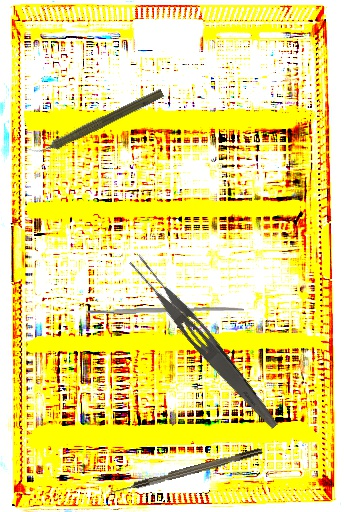Dressing Forceps: (124, 251, 287, 433)
Handpiece: (26, 82, 166, 164)
Hook Surgical: (106, 447, 264, 497)
Scalpel Handle: (85, 305, 245, 315)
